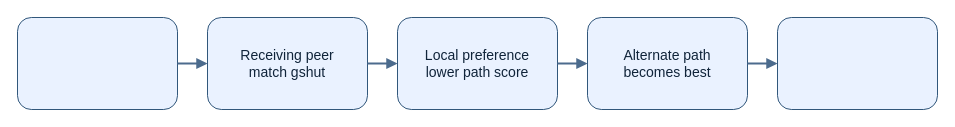
Some shapes in this 955 by 127 pixel diagram are drawn without their labels. The shapes that lost their labels are listed below. From the top down, each one's centre as x and y in pixels, then its label:
point 97,63: Initiator FortiGate gshut + delay
point 857,63: Session close after drain window
